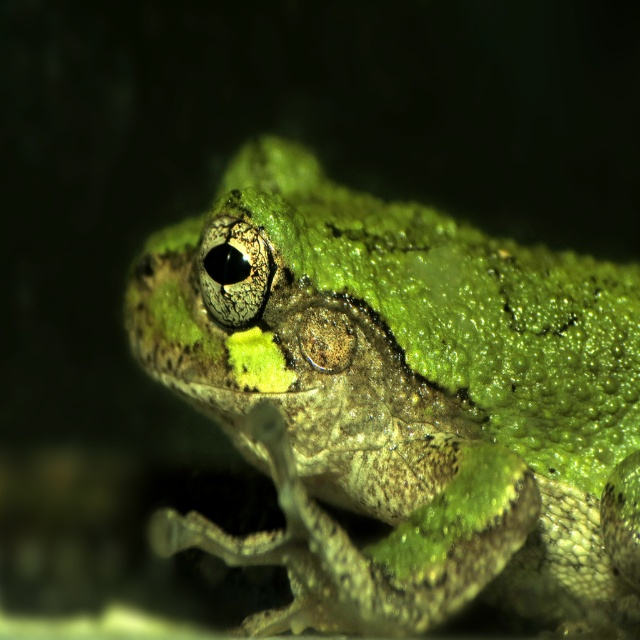Frog: (125, 137, 640, 639)
